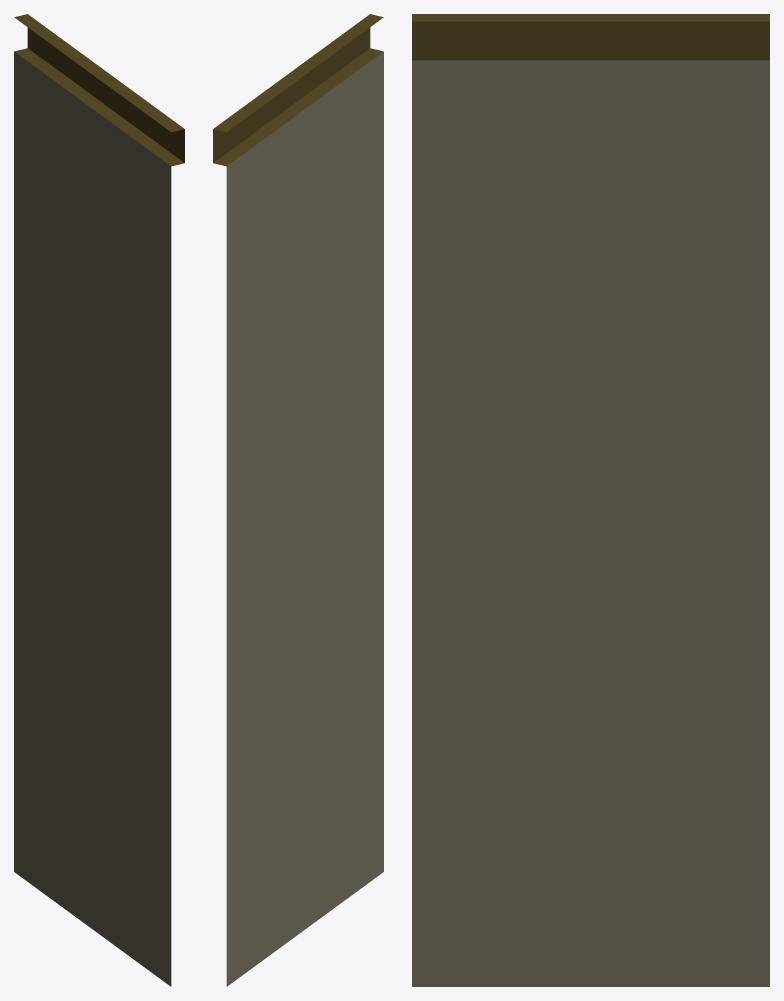
File: GB_Floor1_Wall_1M.fbx
The picture shows the model from 3 angles, left to right: view 1: azimuth 30°, elevation 25°; view 2: azimuth 150°, elevation 25°; view 3: azimuth 270°, elevation 25°; orthographic projection. The views are drawn at different scales.
Parts seen in each view (by area): view 1: Bottom_Wall4; view 2: Bottom_Wall4; view 3: Bottom_Wall4.
Part boxes in pixels (bbox=[...]): Bottom_Wall4: bbox=[14, 14, 184, 986]; Bottom_Wall4: bbox=[213, 14, 383, 986]; Bottom_Wall4: bbox=[412, 14, 769, 986].
Size of the model in its own units: 0.05 by 3 by 1.
